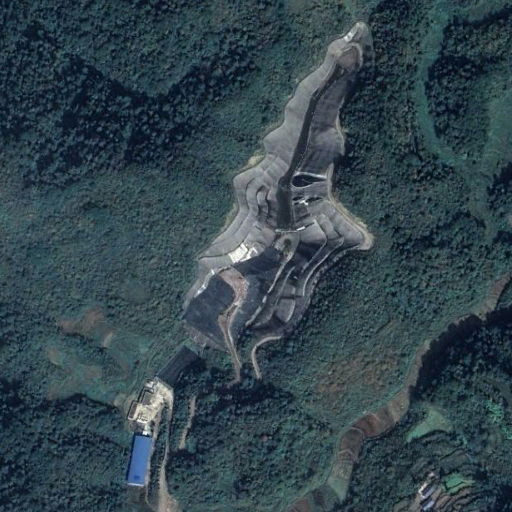lf: (180, 22, 380, 375)
